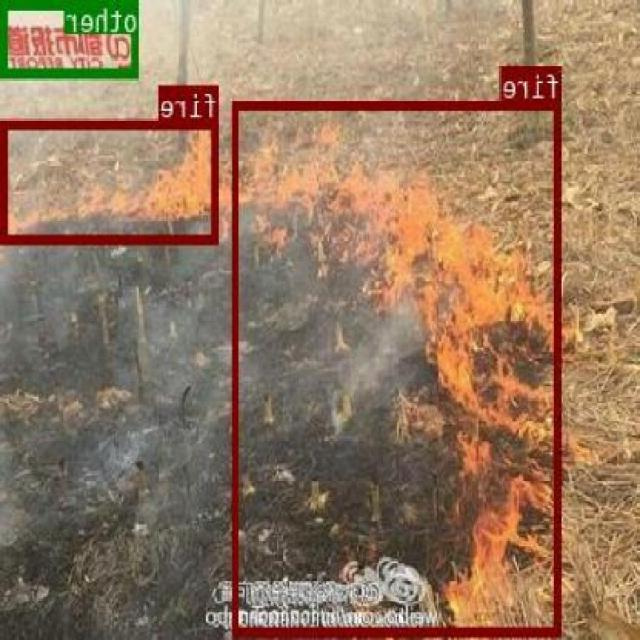Fire: (234, 99, 563, 635), (3, 117, 220, 240)
